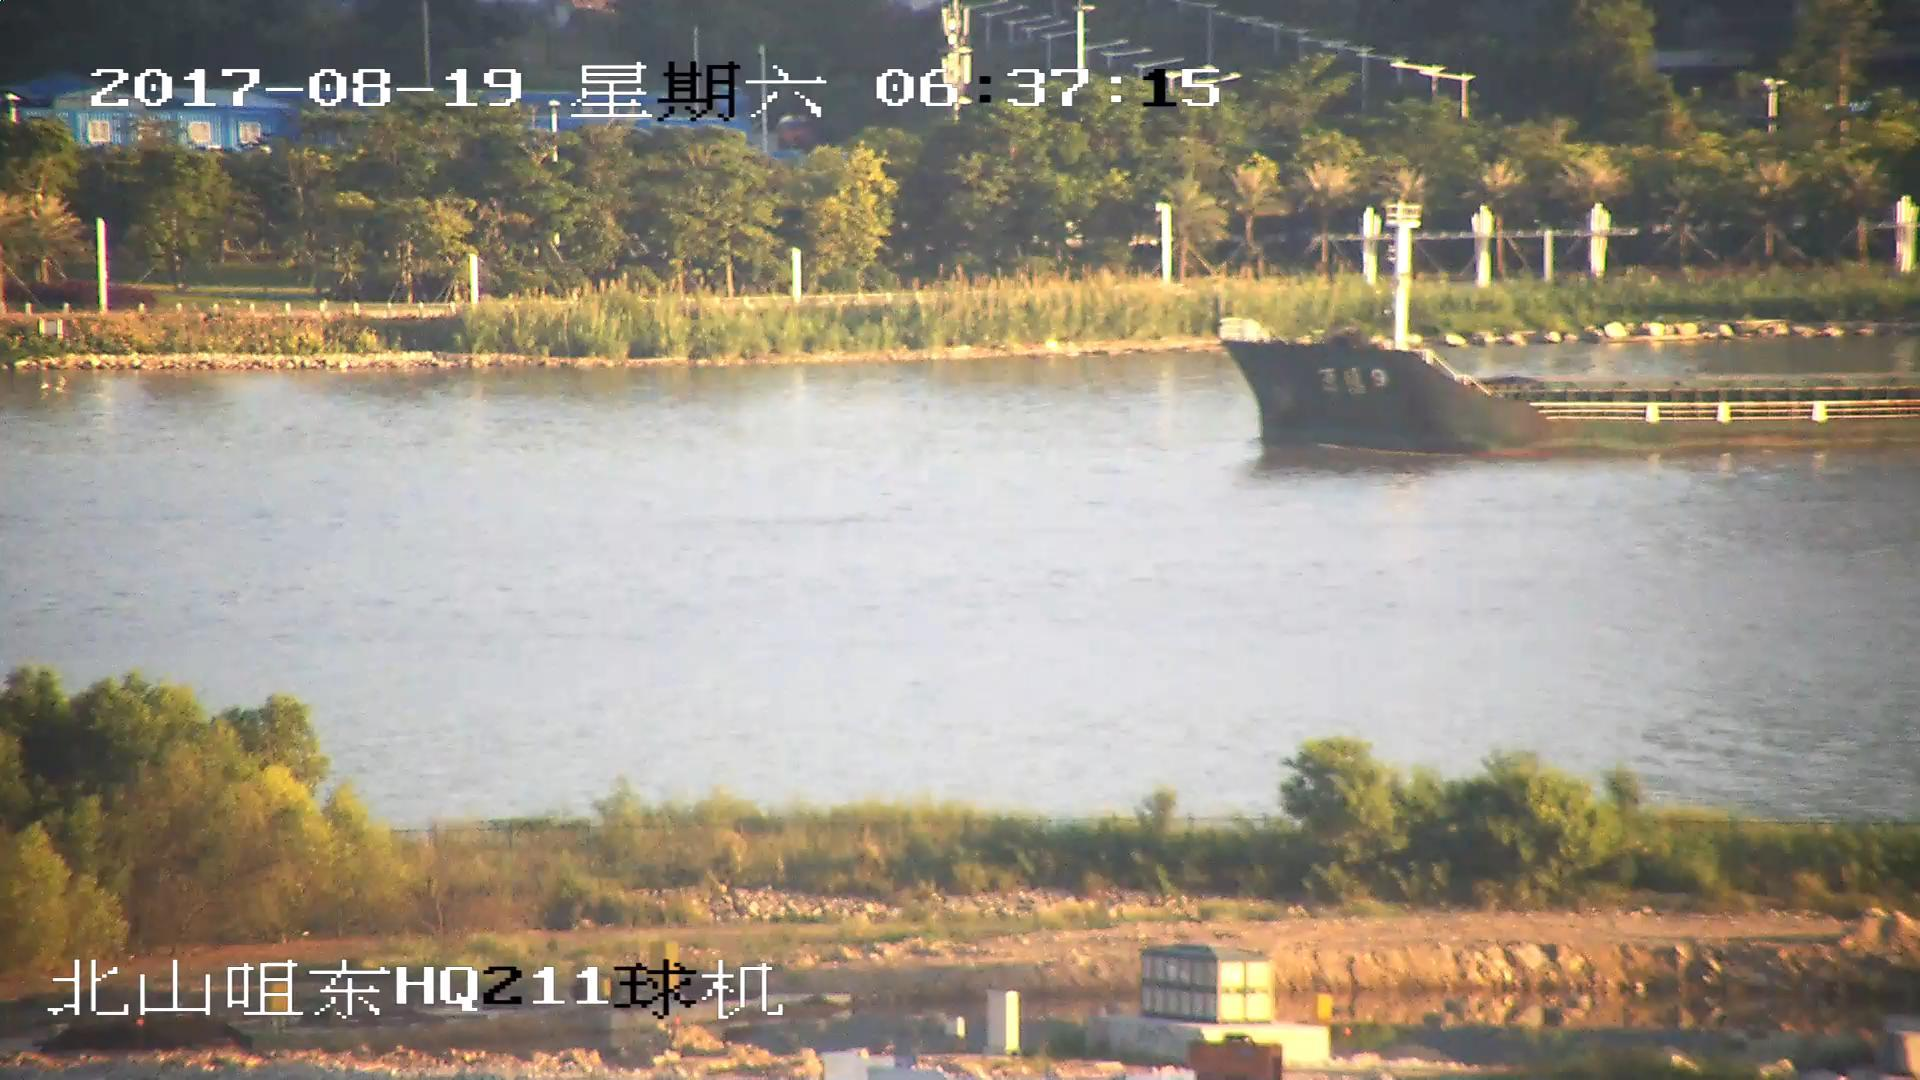Ship: (1216, 222, 1920, 447)
